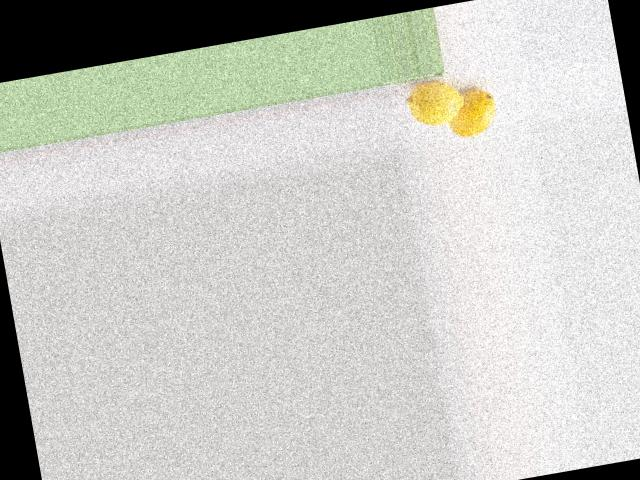lemon: (447, 89, 502, 140)
